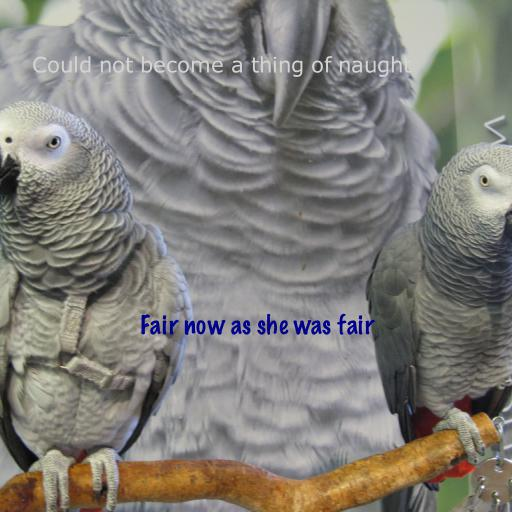Marker Felt: (140, 313, 374, 335)
Verdana: (31, 56, 411, 77)
